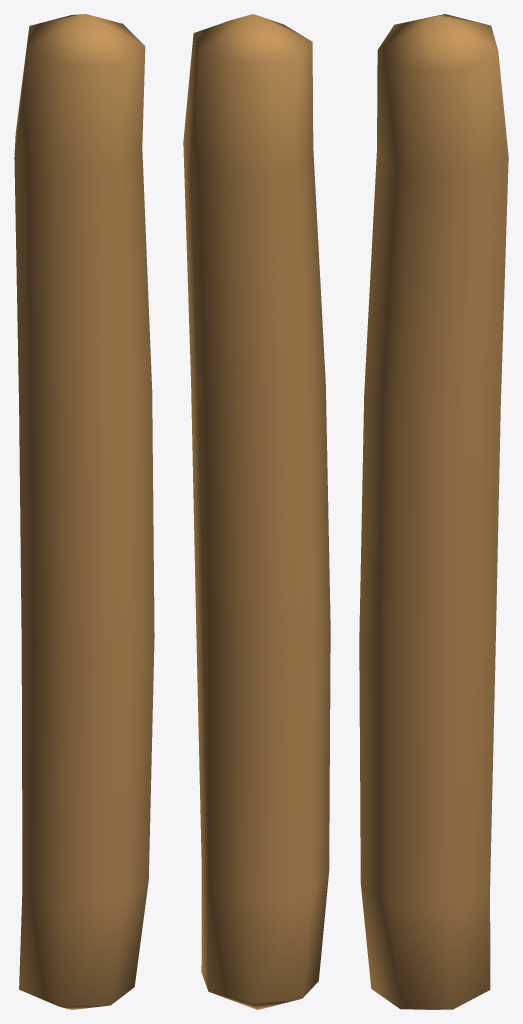
The model's file is tarsus_T1_left_leg.obj.
The picture shows the model from 3 angles, left to right: view 1: azimuth 90°, elevation 25°; view 2: azimuth 150°, elevation 25°; view 3: azimuth 330°, elevation 25°; orthographic projection.
Size of the model in its own units: 0.00381 by 0.0286 by 0.00367.
